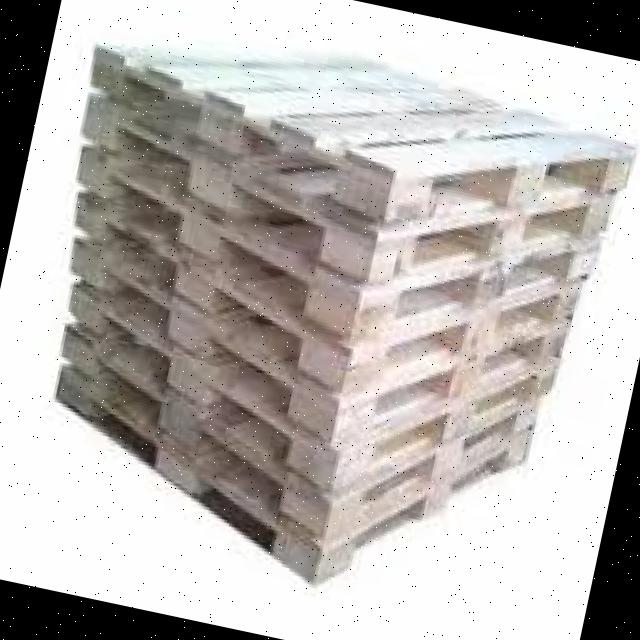Wooden-Pallets: (13, 370, 533, 588), (82, 36, 640, 235), (68, 89, 613, 286), (57, 187, 595, 386)
